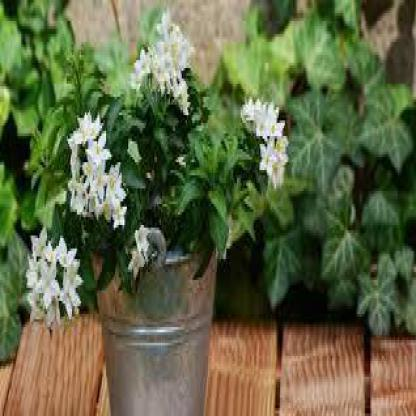Melati: (56, 103, 153, 281), (127, 9, 199, 124), (23, 234, 86, 354), (229, 66, 295, 179)
